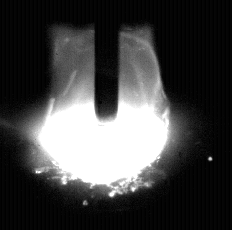arame: (96, 0, 120, 122)
poca: (38, 0, 168, 230)
